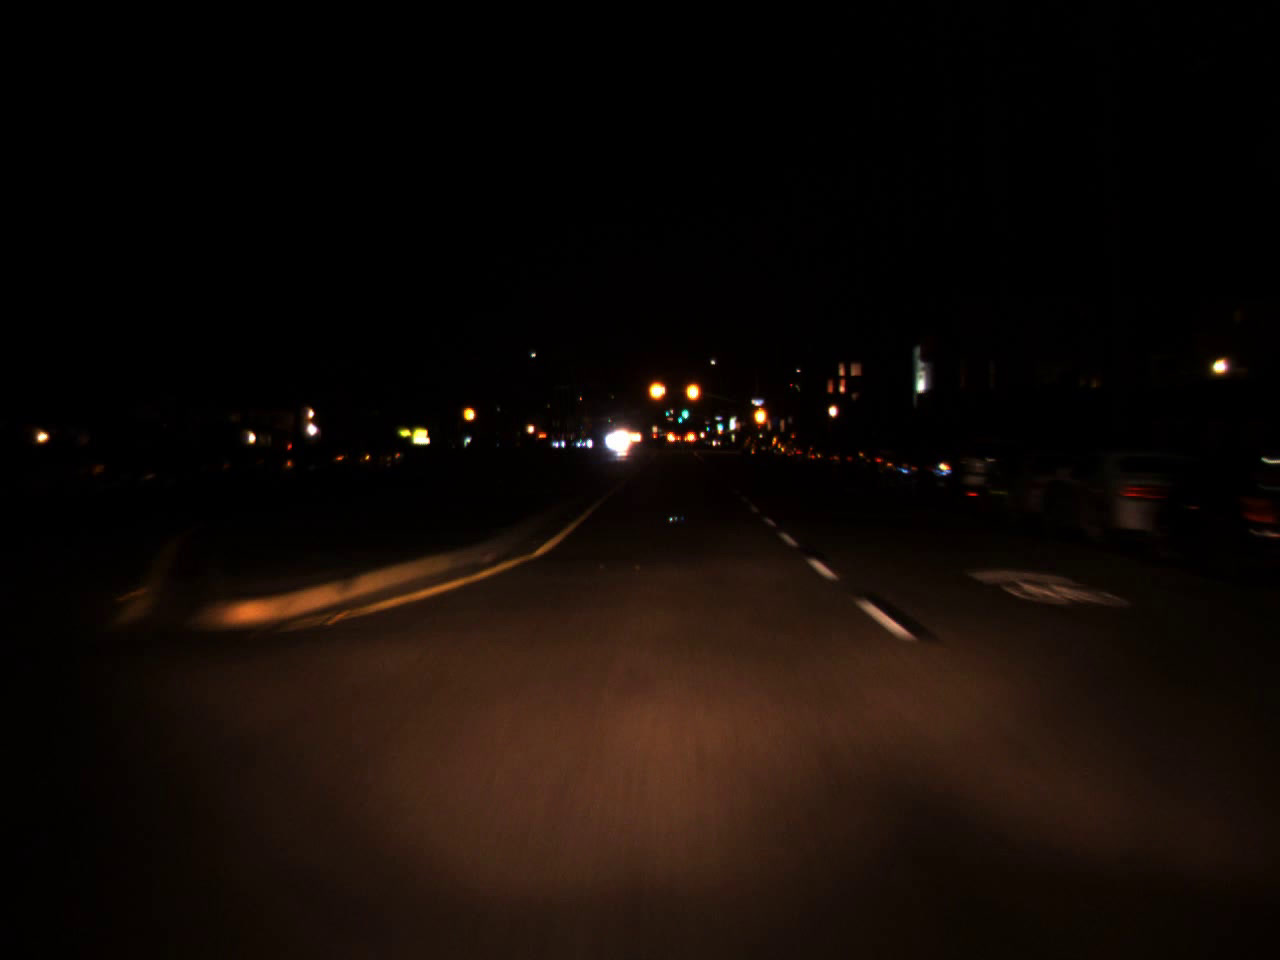go: (679, 398, 689, 422), (676, 412, 683, 424), (716, 418, 723, 430)
warning: (646, 370, 668, 410), (684, 371, 702, 411), (752, 395, 768, 435), (461, 402, 479, 427)
